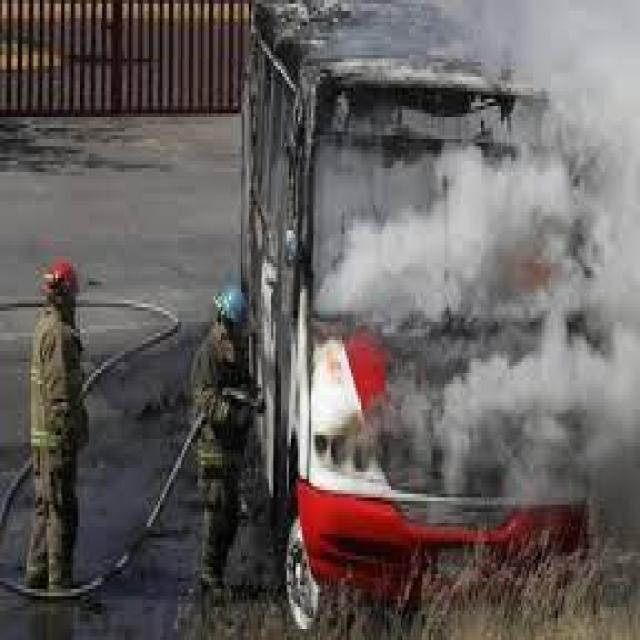Smoke: (309, 1, 640, 548)
